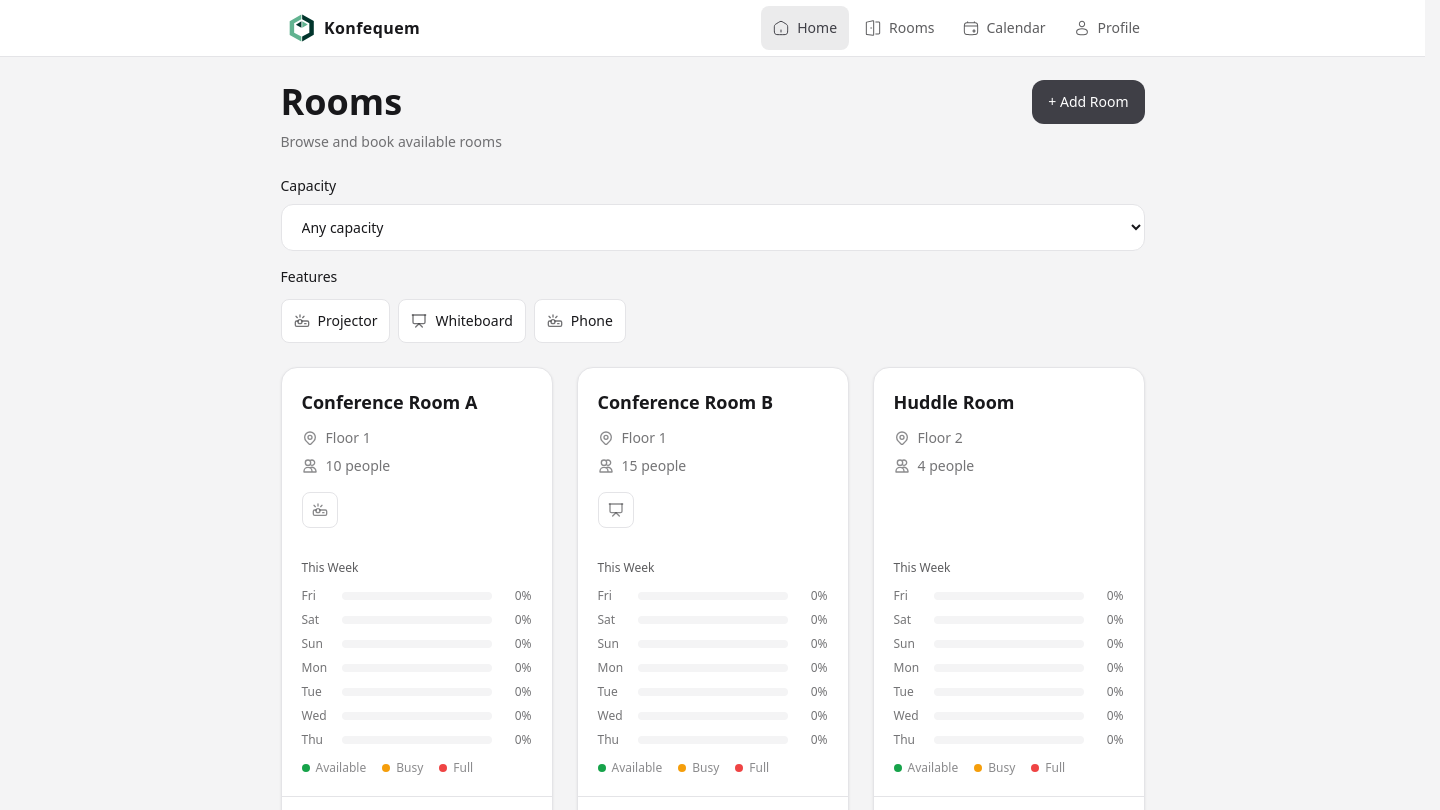
Test case: RoomsPage room management › creates a room via the form modal
Expected: the heading "Conference Room A" is shown, [302, 390, 477, 414]
Click the button "+ Add Room" at coordinates (1088, 102), box [1032, 80, 1144, 124]
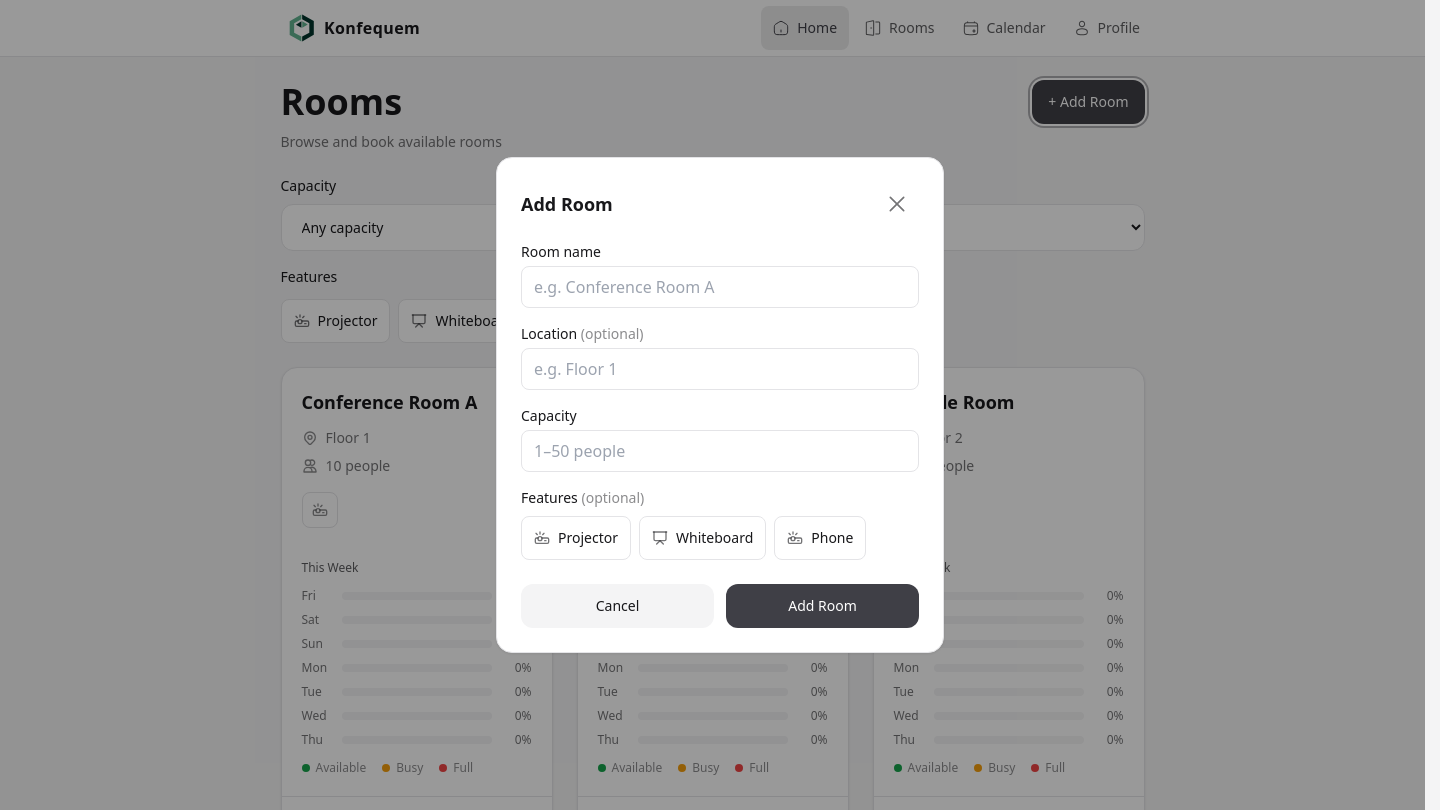
Type "Focus Room" into the field labelled "Room name" at coordinates (720, 287), box [521, 266, 919, 308]
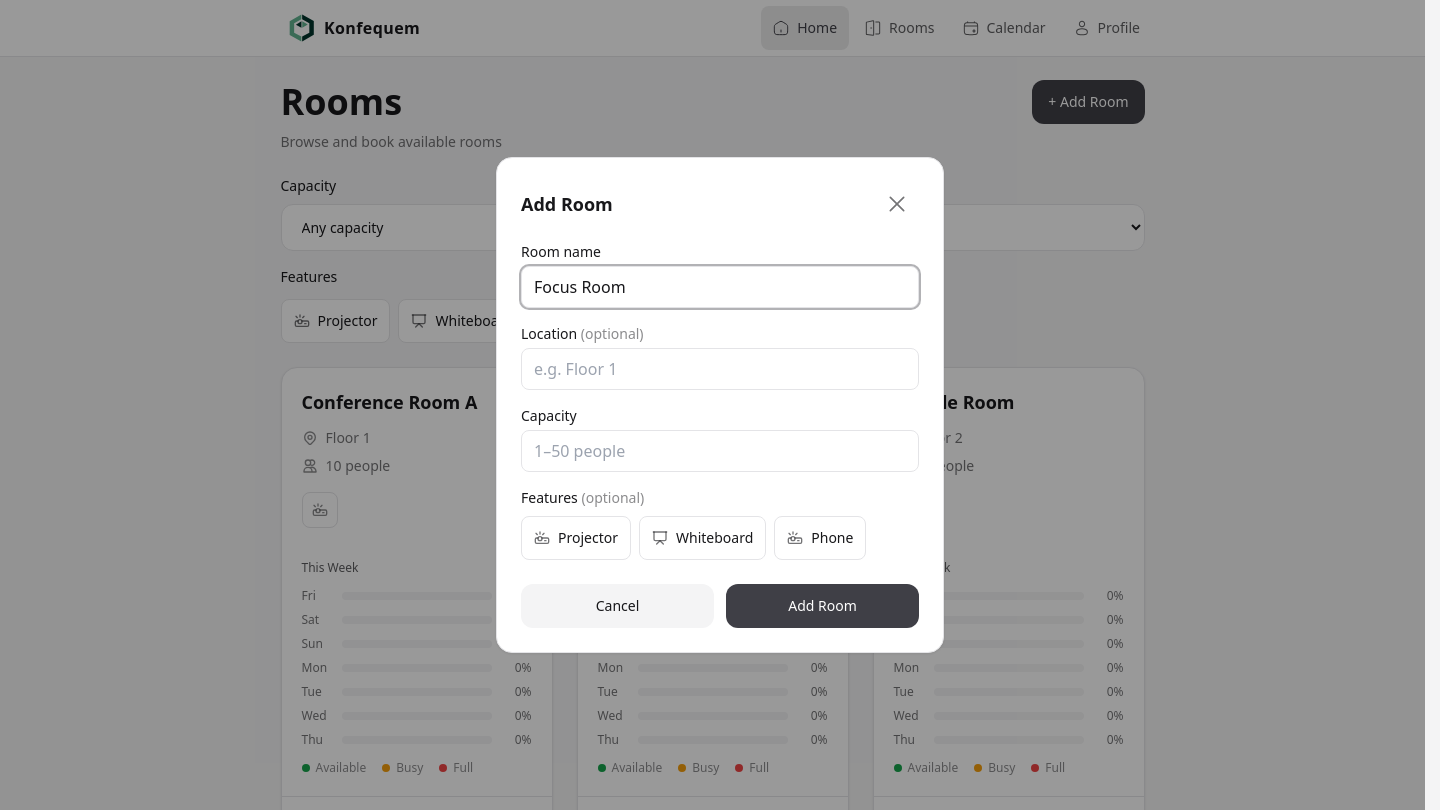
Type "6" into the number field labelled "Capacity" at coordinates (720, 451), box [521, 430, 919, 472]
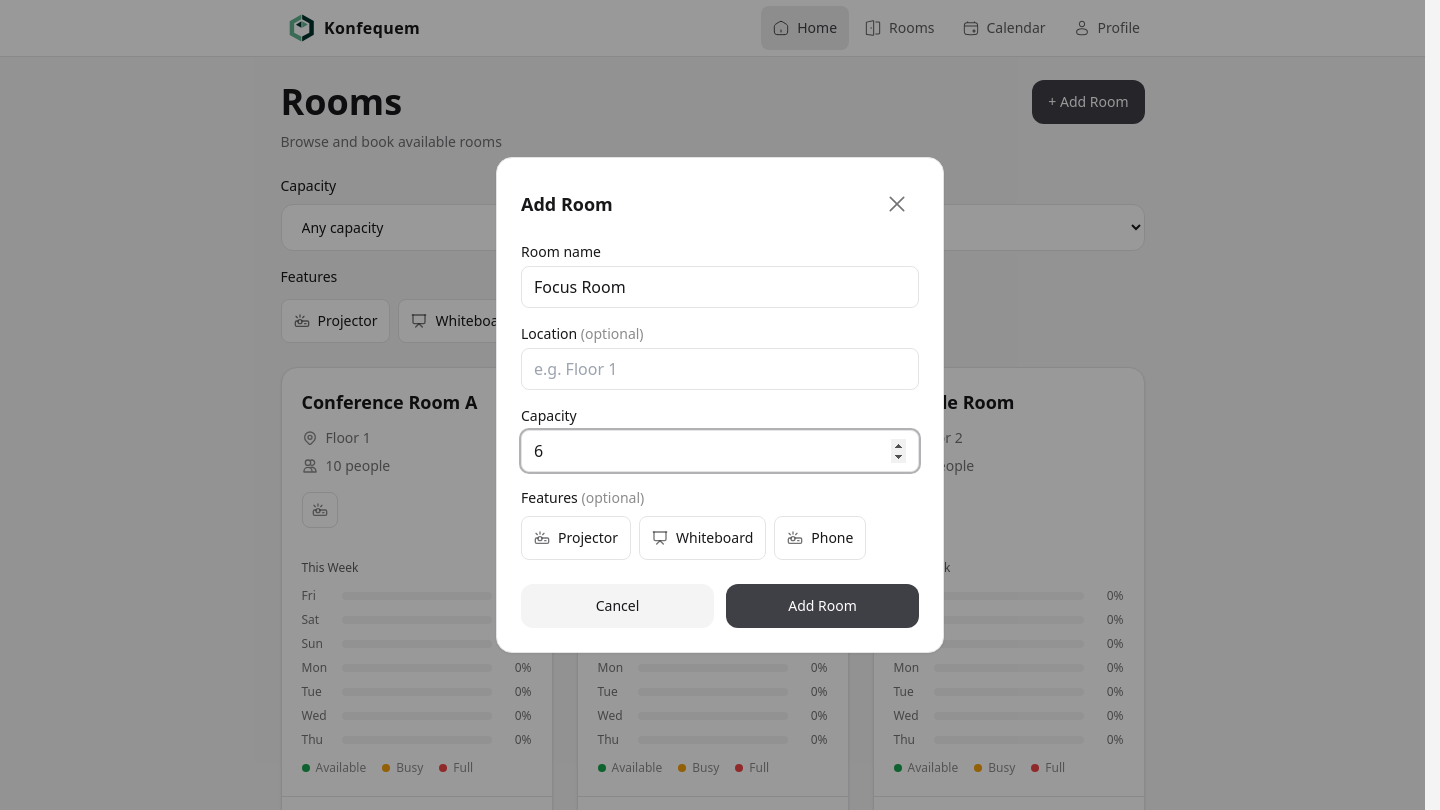
Click the button "Add Room" at coordinates (822, 606), box [726, 584, 919, 628]
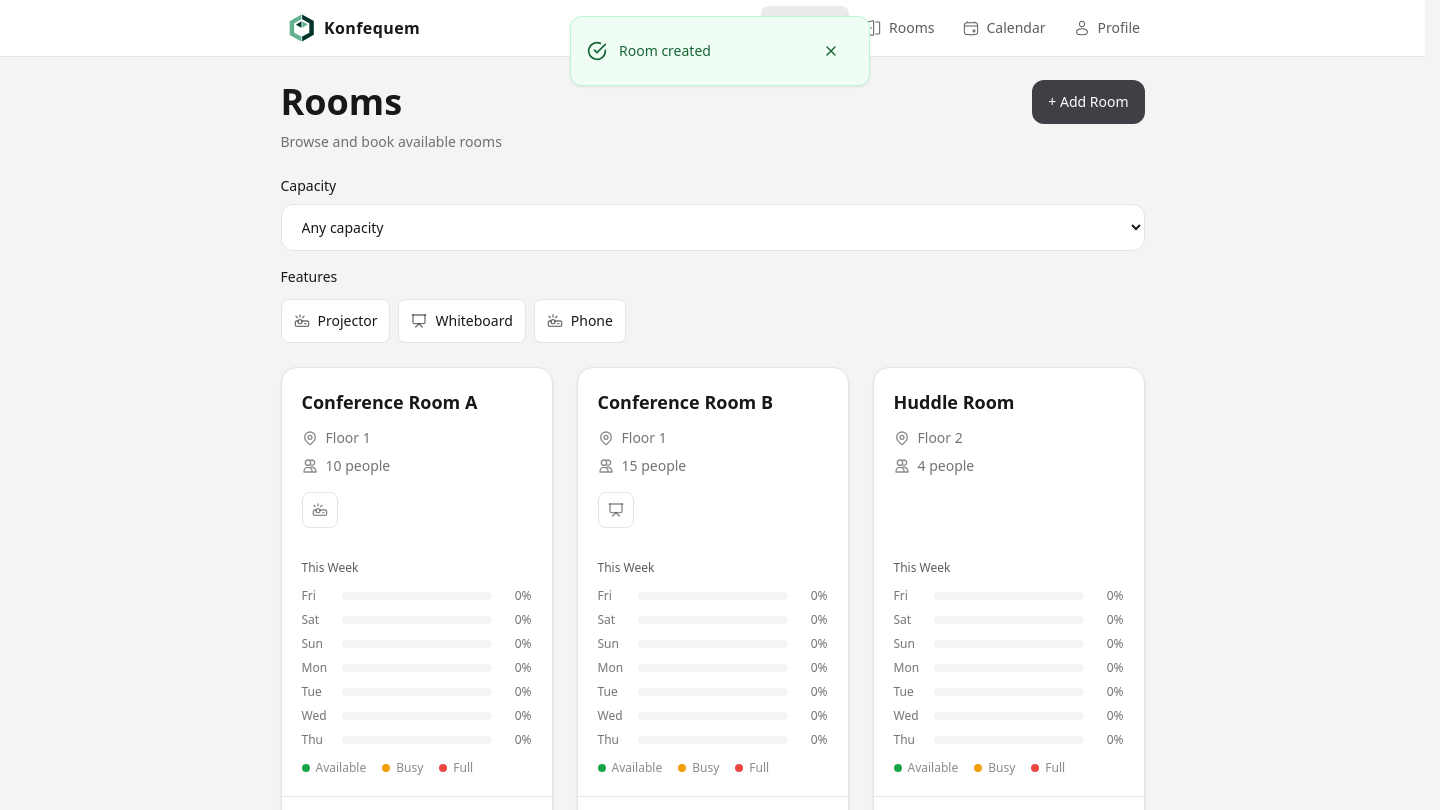
Result: the text "Room created" is shown at [619, 41, 711, 60]
Result: the dialog is gone
